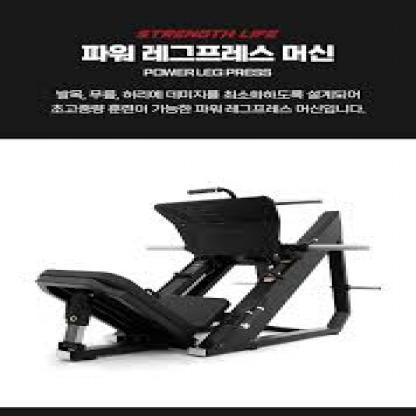leg press: (21, 169, 385, 365)
